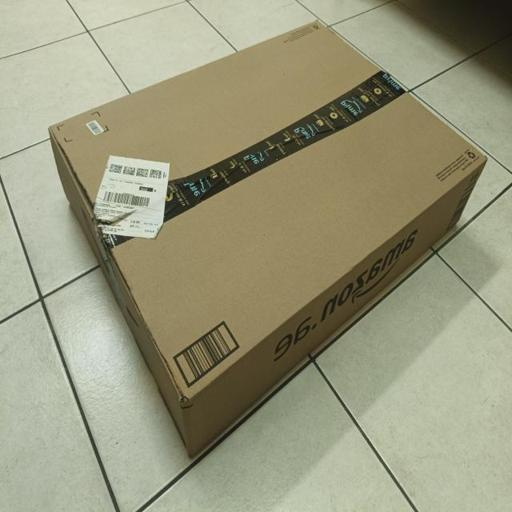Amazon: (49, 17, 491, 437)
